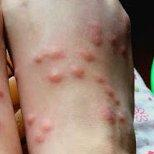Fleas: (85, 20, 105, 47), (102, 84, 123, 108), (101, 107, 126, 123), (91, 71, 110, 87), (46, 69, 64, 85), (23, 112, 37, 127), (79, 50, 95, 61), (70, 65, 84, 77), (32, 132, 46, 143), (48, 51, 65, 59), (39, 123, 51, 132), (33, 53, 43, 62), (108, 35, 117, 45), (120, 45, 126, 56)
